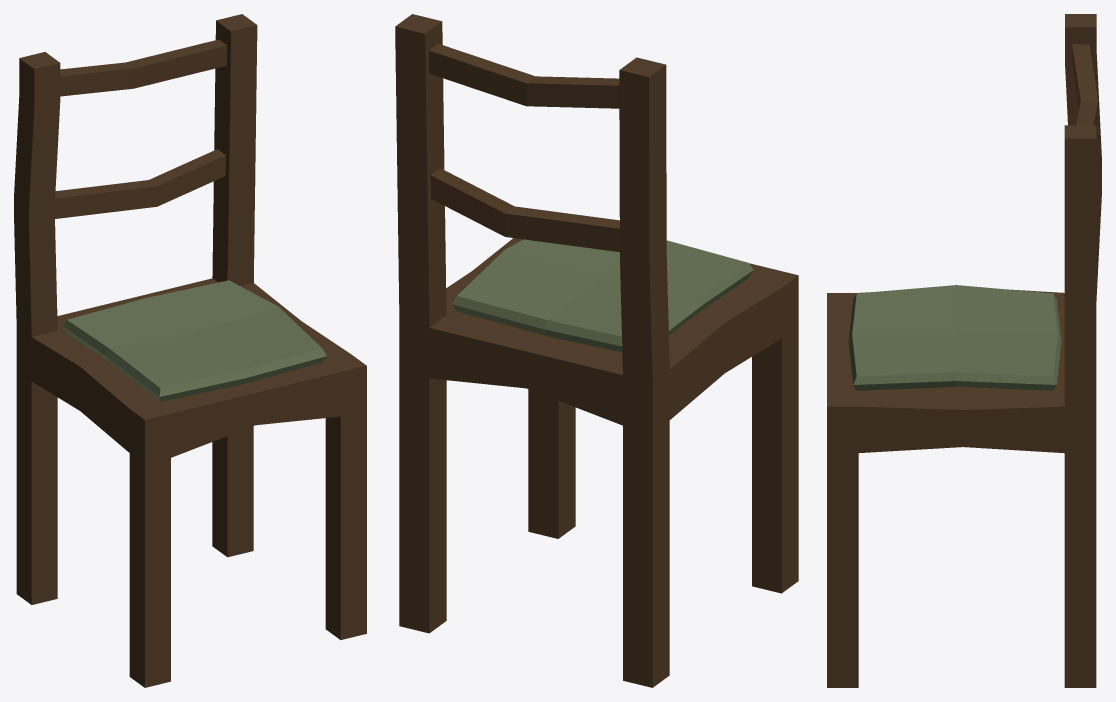
Rendered from Chair.fbx.
The picture shows the model from 3 angles, left to right: view 1: azimuth 30°, elevation 25°; view 2: azimuth 150°, elevation 25°; view 3: azimuth 270°, elevation 25°; orthographic projection. The views are drawn at different scales.
Parts seen in each view (by area): view 1: Chair; view 2: Chair; view 3: Chair.
Boxes of the visible parts, box(x1,y1,x2,y2) form: Chair: box(14, 14, 366, 687); Chair: box(395, 14, 798, 687); Chair: box(827, 14, 1101, 687).
Bounding box in the file's own units: 0.7644 × 1.73 × 0.7679.
